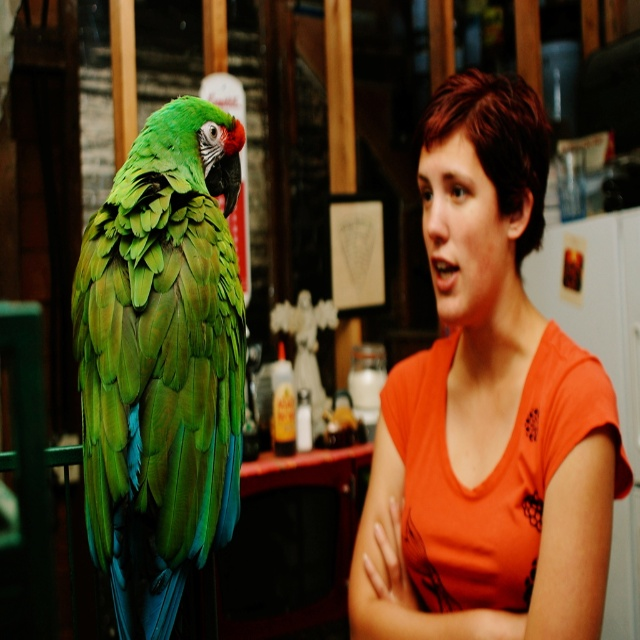Parrot: (73, 94, 247, 639)
